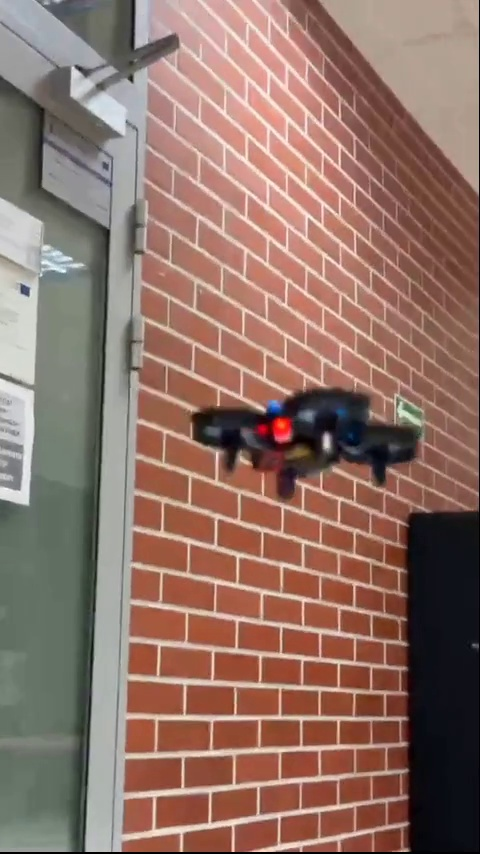drone: (194, 387, 415, 497)
